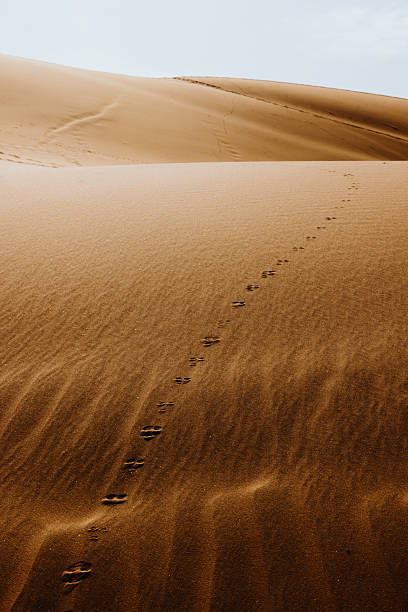human_foot_print: (61, 561, 91, 592), (122, 457, 144, 472), (140, 425, 161, 440), (102, 493, 127, 504), (201, 336, 221, 347), (156, 401, 174, 412), (189, 356, 204, 366), (173, 377, 190, 384), (232, 300, 245, 308), (247, 284, 259, 291)
